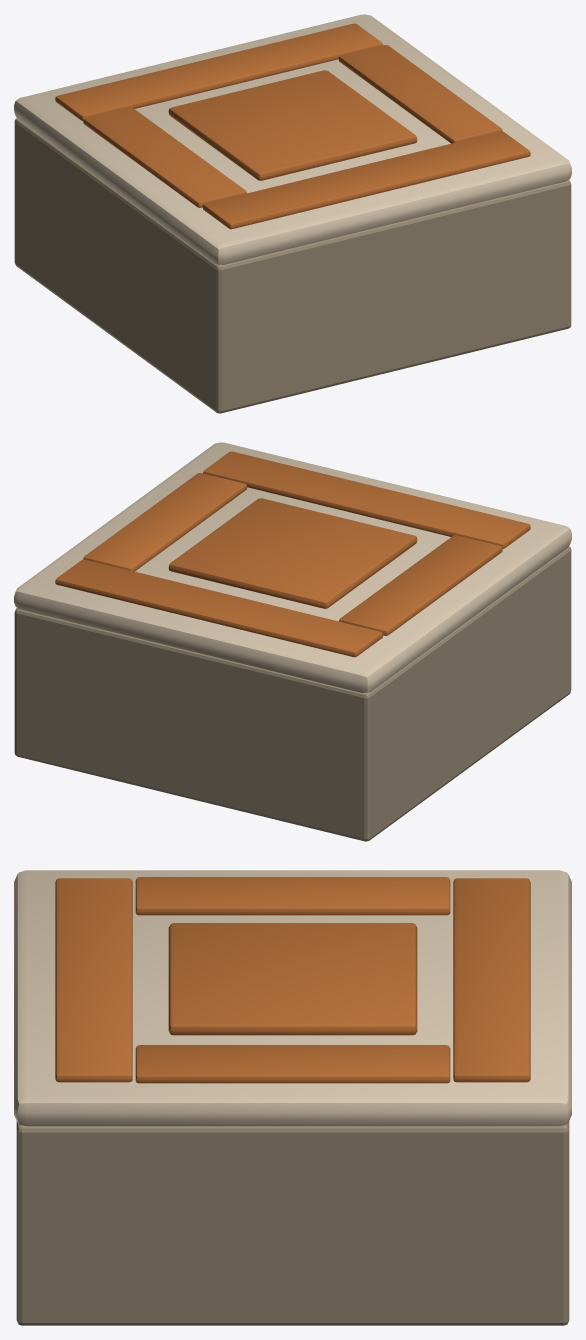
Rendered from tile_courtyard.glb.
3 renders of one model, top to bottom at view 1: azimuth 30°, elevation 25°; view 2: azimuth 150°, elevation 25°; view 3: azimuth 270°, elevation 25°, orthographic. The views are drawn at different scales.
Visible parts, largest first — view 1: co_body, co_cap, co_center, co_ring2, co_ring, co_ring4, co_ring3; view 2: co_body, co_cap, co_center, co_ring, co_ring2, co_ring4, co_ring3; view 3: co_body, co_cap, co_center, co_ring, co_ring2, co_ring3, co_ring4.
Boxes of the visible parts, x1,y1,x2,y2 form: co_body: (14, 118, 571, 413); co_cap: (14, 14, 571, 264); co_center: (168, 70, 417, 180); co_ring2: (202, 131, 530, 229); co_ring: (55, 23, 382, 120); co_ring4: (83, 107, 246, 207); co_ring3: (338, 45, 502, 143); co_body: (14, 546, 571, 841); co_cap: (14, 442, 571, 692); co_center: (168, 498, 417, 608); co_ring: (55, 559, 383, 657); co_ring2: (203, 451, 530, 548); co_ring4: (339, 535, 502, 635); co_ring3: (83, 473, 247, 571); co_body: (16, 1121, 569, 1325); co_cap: (14, 870, 571, 1126); co_center: (168, 923, 417, 1035); co_ring: (453, 878, 530, 1082); co_ring2: (55, 878, 132, 1082); co_ring3: (135, 1045, 450, 1083); co_ring4: (135, 877, 450, 915).
Size of the model in its own units: 2.02 by 0.95 by 2.02.
